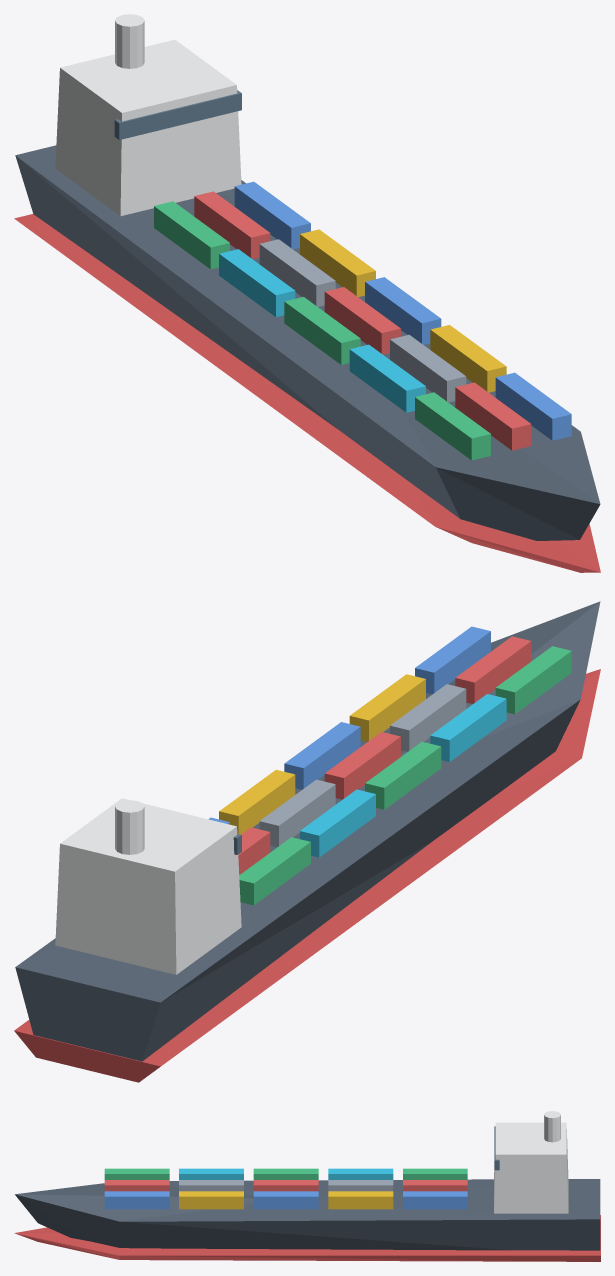
File: synth_large_ship.glb
3 renders of one model, top to bottom at view 1: azimuth 30°, elevation 25°; view 2: azimuth 150°, elevation 25°; view 3: azimuth 270°, elevation 25°, orthographic. The views are drawn at different scales.
Size of the model in its own units: 18.2 by 28 by 110.
